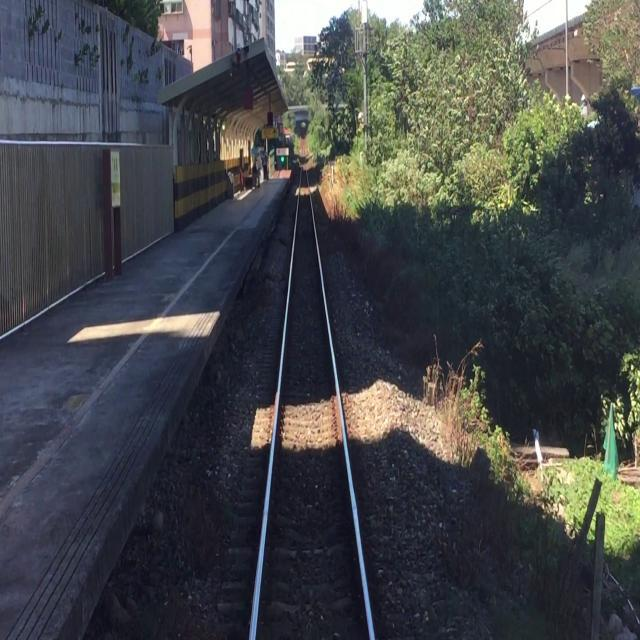track: (239, 149, 386, 640)
